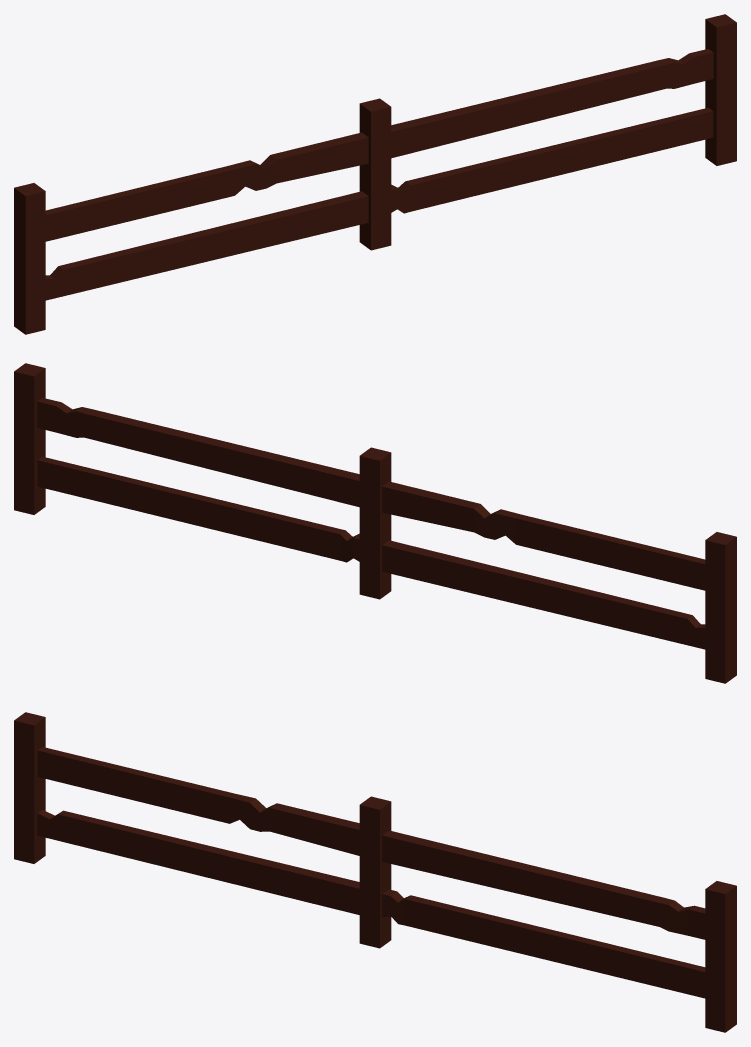
Rendered from Fence.obj.
3 renders of one model, top to bottom at view 1: azimuth 30°, elevation 25°; view 2: azimuth 150°, elevation 25°; view 3: azimuth 330°, elevation 25°, orthographic.
Visible parts, largest first — view 1: Fence; view 2: Fence; view 3: Fence.
Boxes of the visible parts, x1,y1,x2,y2 form: Fence: (14, 14, 736, 334); Fence: (14, 363, 736, 683); Fence: (14, 712, 736, 1032).
Bounding box in the file's own units: 5.89 × 1.1 × 0.1655.
